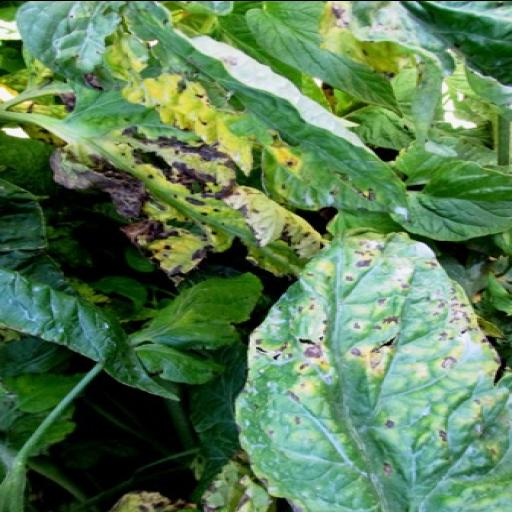Early Blight: (234, 231, 512, 512), (116, 0, 412, 216), (43, 88, 325, 278)
